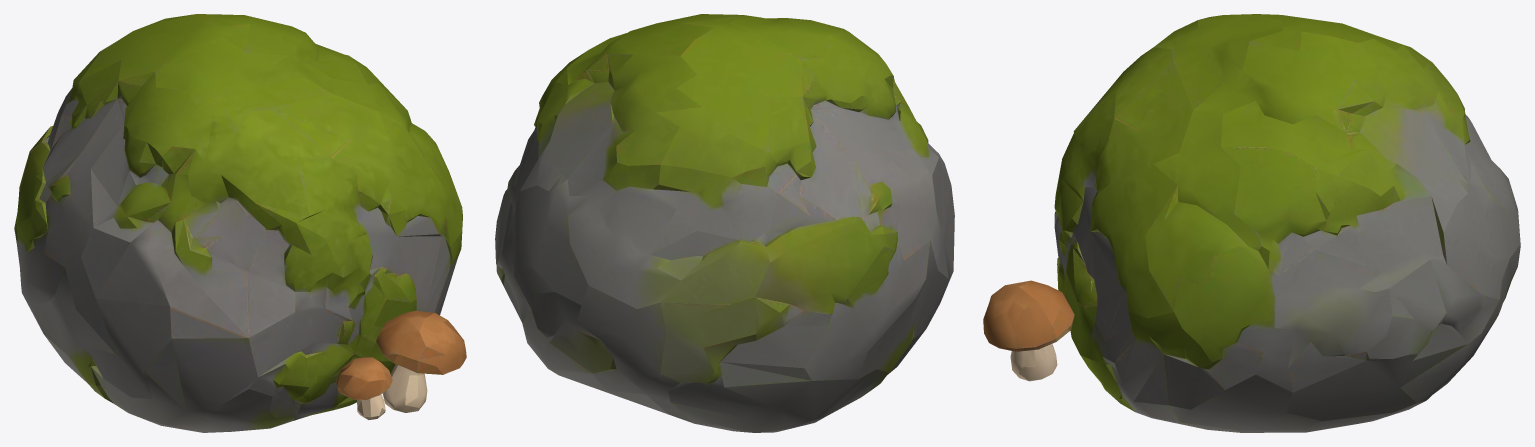
Rendered from rock-boulder-moss.glb.
3 views of the same model, side by side, from view 1: azimuth 30°, elevation 25°; view 2: azimuth 150°, elevation 25°; view 3: azimuth 270°, elevation 25° (orthographic). The views are drawn at different scales.
Parts seen in each view (by area): view 1: rock-boulder-moss-fit; view 2: rock-boulder-moss-fit; view 3: rock-boulder-moss-fit.
Part boxes in pixels (bbox=[...]): rock-boulder-moss-fit: bbox=[14, 14, 466, 432]; rock-boulder-moss-fit: bbox=[495, 14, 954, 432]; rock-boulder-moss-fit: bbox=[983, 14, 1520, 432].
Bounding box in the file's own units: 1.57 × 1.4 × 1.87.
Materials: 1 (1 with a texture image).
